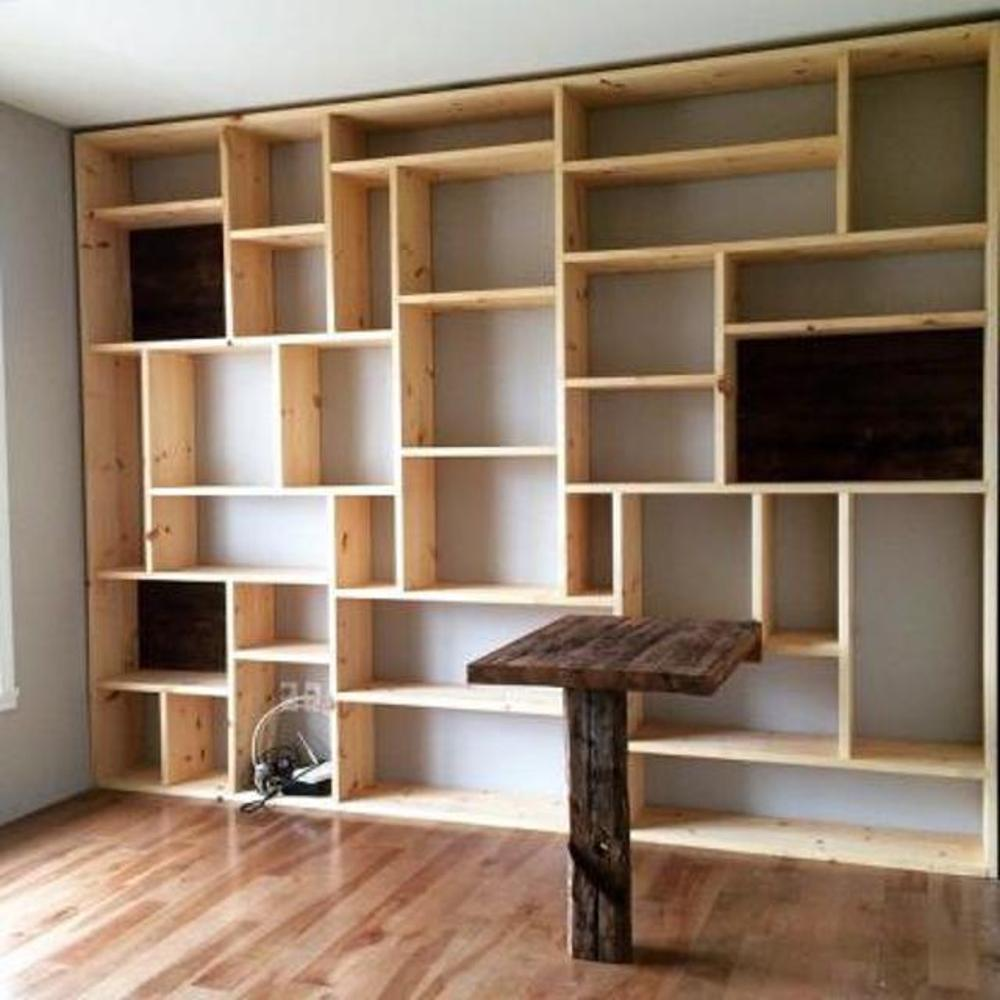lamp: (69, 1, 999, 886)
